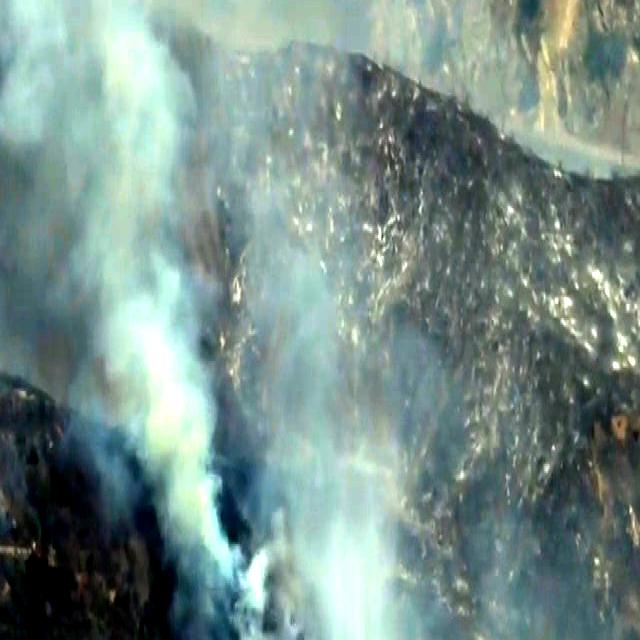smoke: (72, 72, 211, 458), (295, 400, 399, 640)
